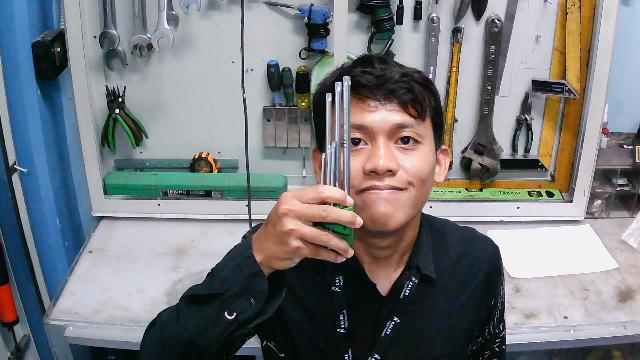kunci_l_bintang: (317, 75, 369, 263)
